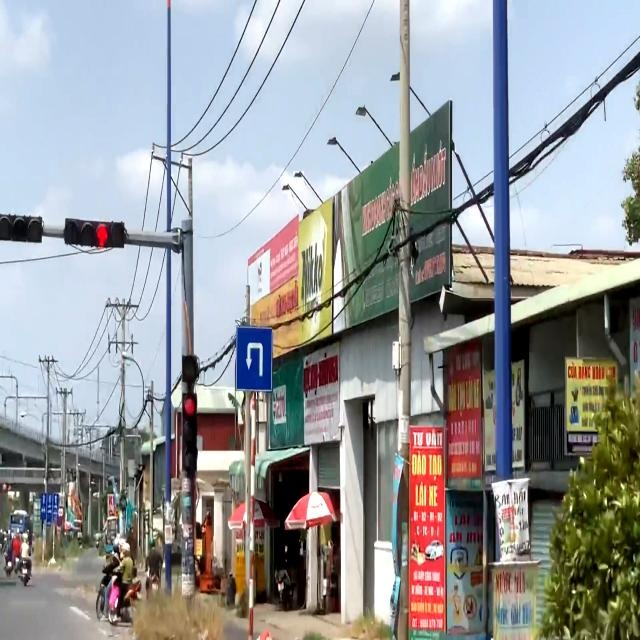bien_chi_dan: (235, 328, 273, 388)
